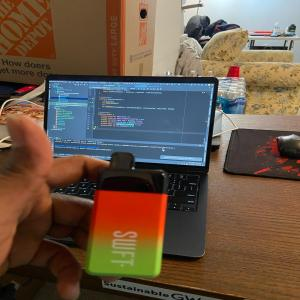Swift-E-Ciggirate: (83, 148, 174, 278)
